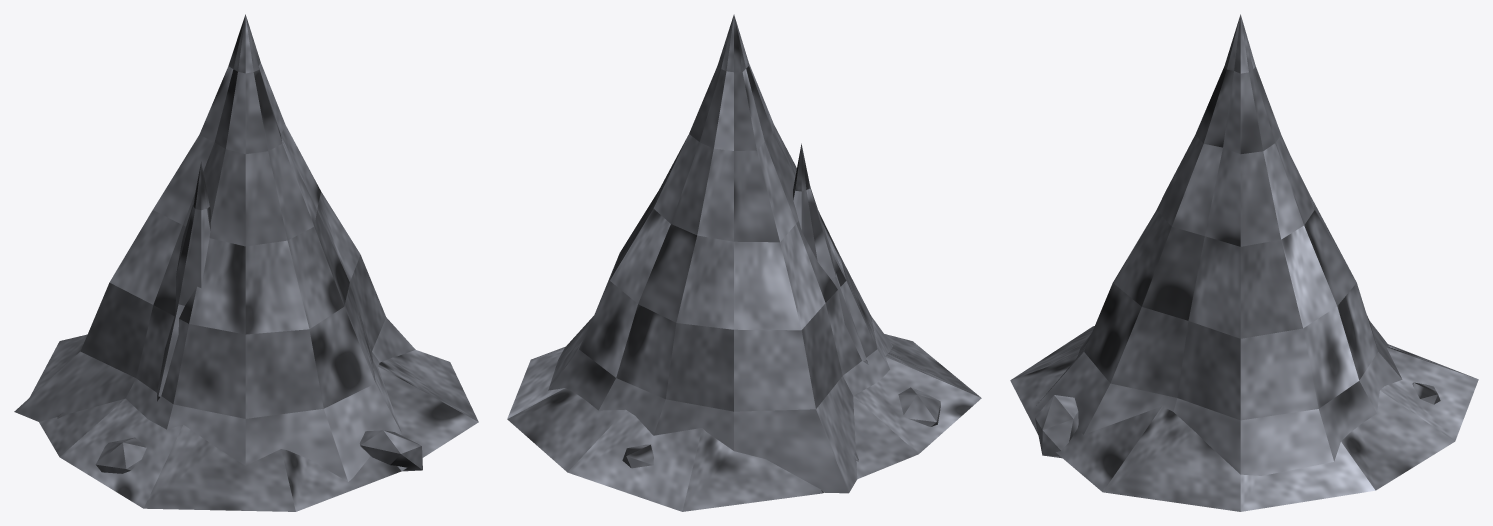
The model's file is MountainA.fbx.
3 views of the same model, side by side, from view 1: azimuth 30°, elevation 25°; view 2: azimuth 150°, elevation 25°; view 3: azimuth 270°, elevation 25° (orthographic).
Parts seen in each view (by area): view 1: MountainA_Peak, MountainA_Skirt, MountainA_Shoulder, MountainA_Boulder_03, MountainA_Boulder_01; view 2: MountainA_Peak, MountainA_Skirt, MountainA_Shoulder, MountainA_Boulder_01, MountainA_Boulder_05; view 3: MountainA_Peak, MountainA_Skirt, MountainA_Boulder_03.
Boxes of the visible parts, x1,y1,x2,y2 form: MountainA_Peak: [14, 14, 415, 481]; MountainA_Skirt: [29, 334, 478, 511]; MountainA_Shoulder: [157, 162, 210, 401]; MountainA_Boulder_03: [360, 430, 422, 471]; MountainA_Boulder_01: [95, 437, 146, 473]; MountainA_Peak: [548, 14, 892, 493]; MountainA_Skirt: [507, 334, 981, 511]; MountainA_Shoulder: [793, 143, 868, 364]; MountainA_Boulder_01: [898, 387, 940, 426]; MountainA_Boulder_05: [622, 444, 653, 468]; MountainA_Peak: [1035, 14, 1402, 475]; MountainA_Skirt: [1010, 326, 1478, 511]; MountainA_Boulder_03: [1035, 395, 1078, 458].
Size of the model in its own units: 7.19 by 7.26 by 7.47.
